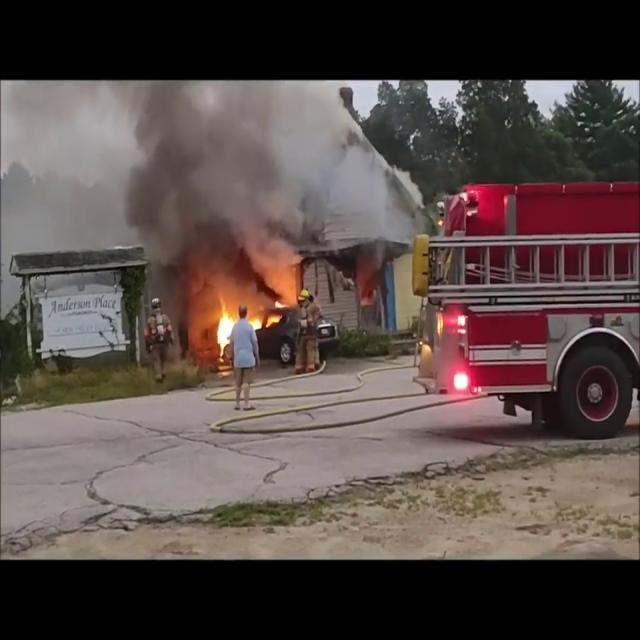Fire: (206, 295, 281, 352)
Smoke: (110, 80, 404, 262)
